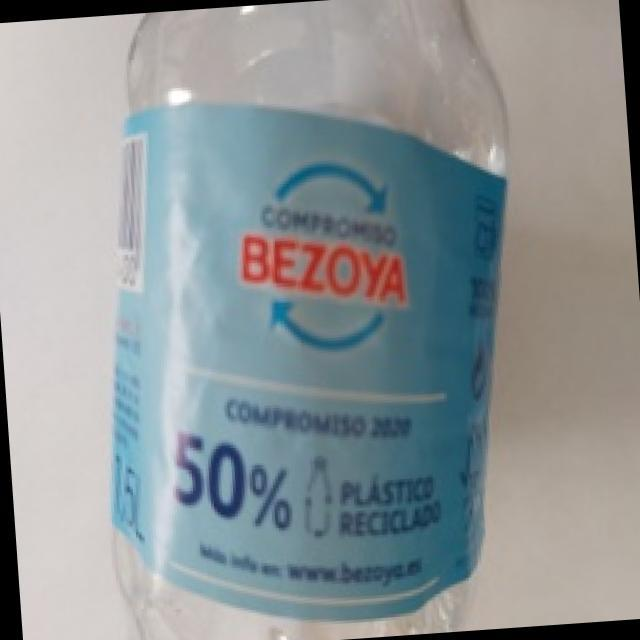good: (58, 0, 564, 640)
